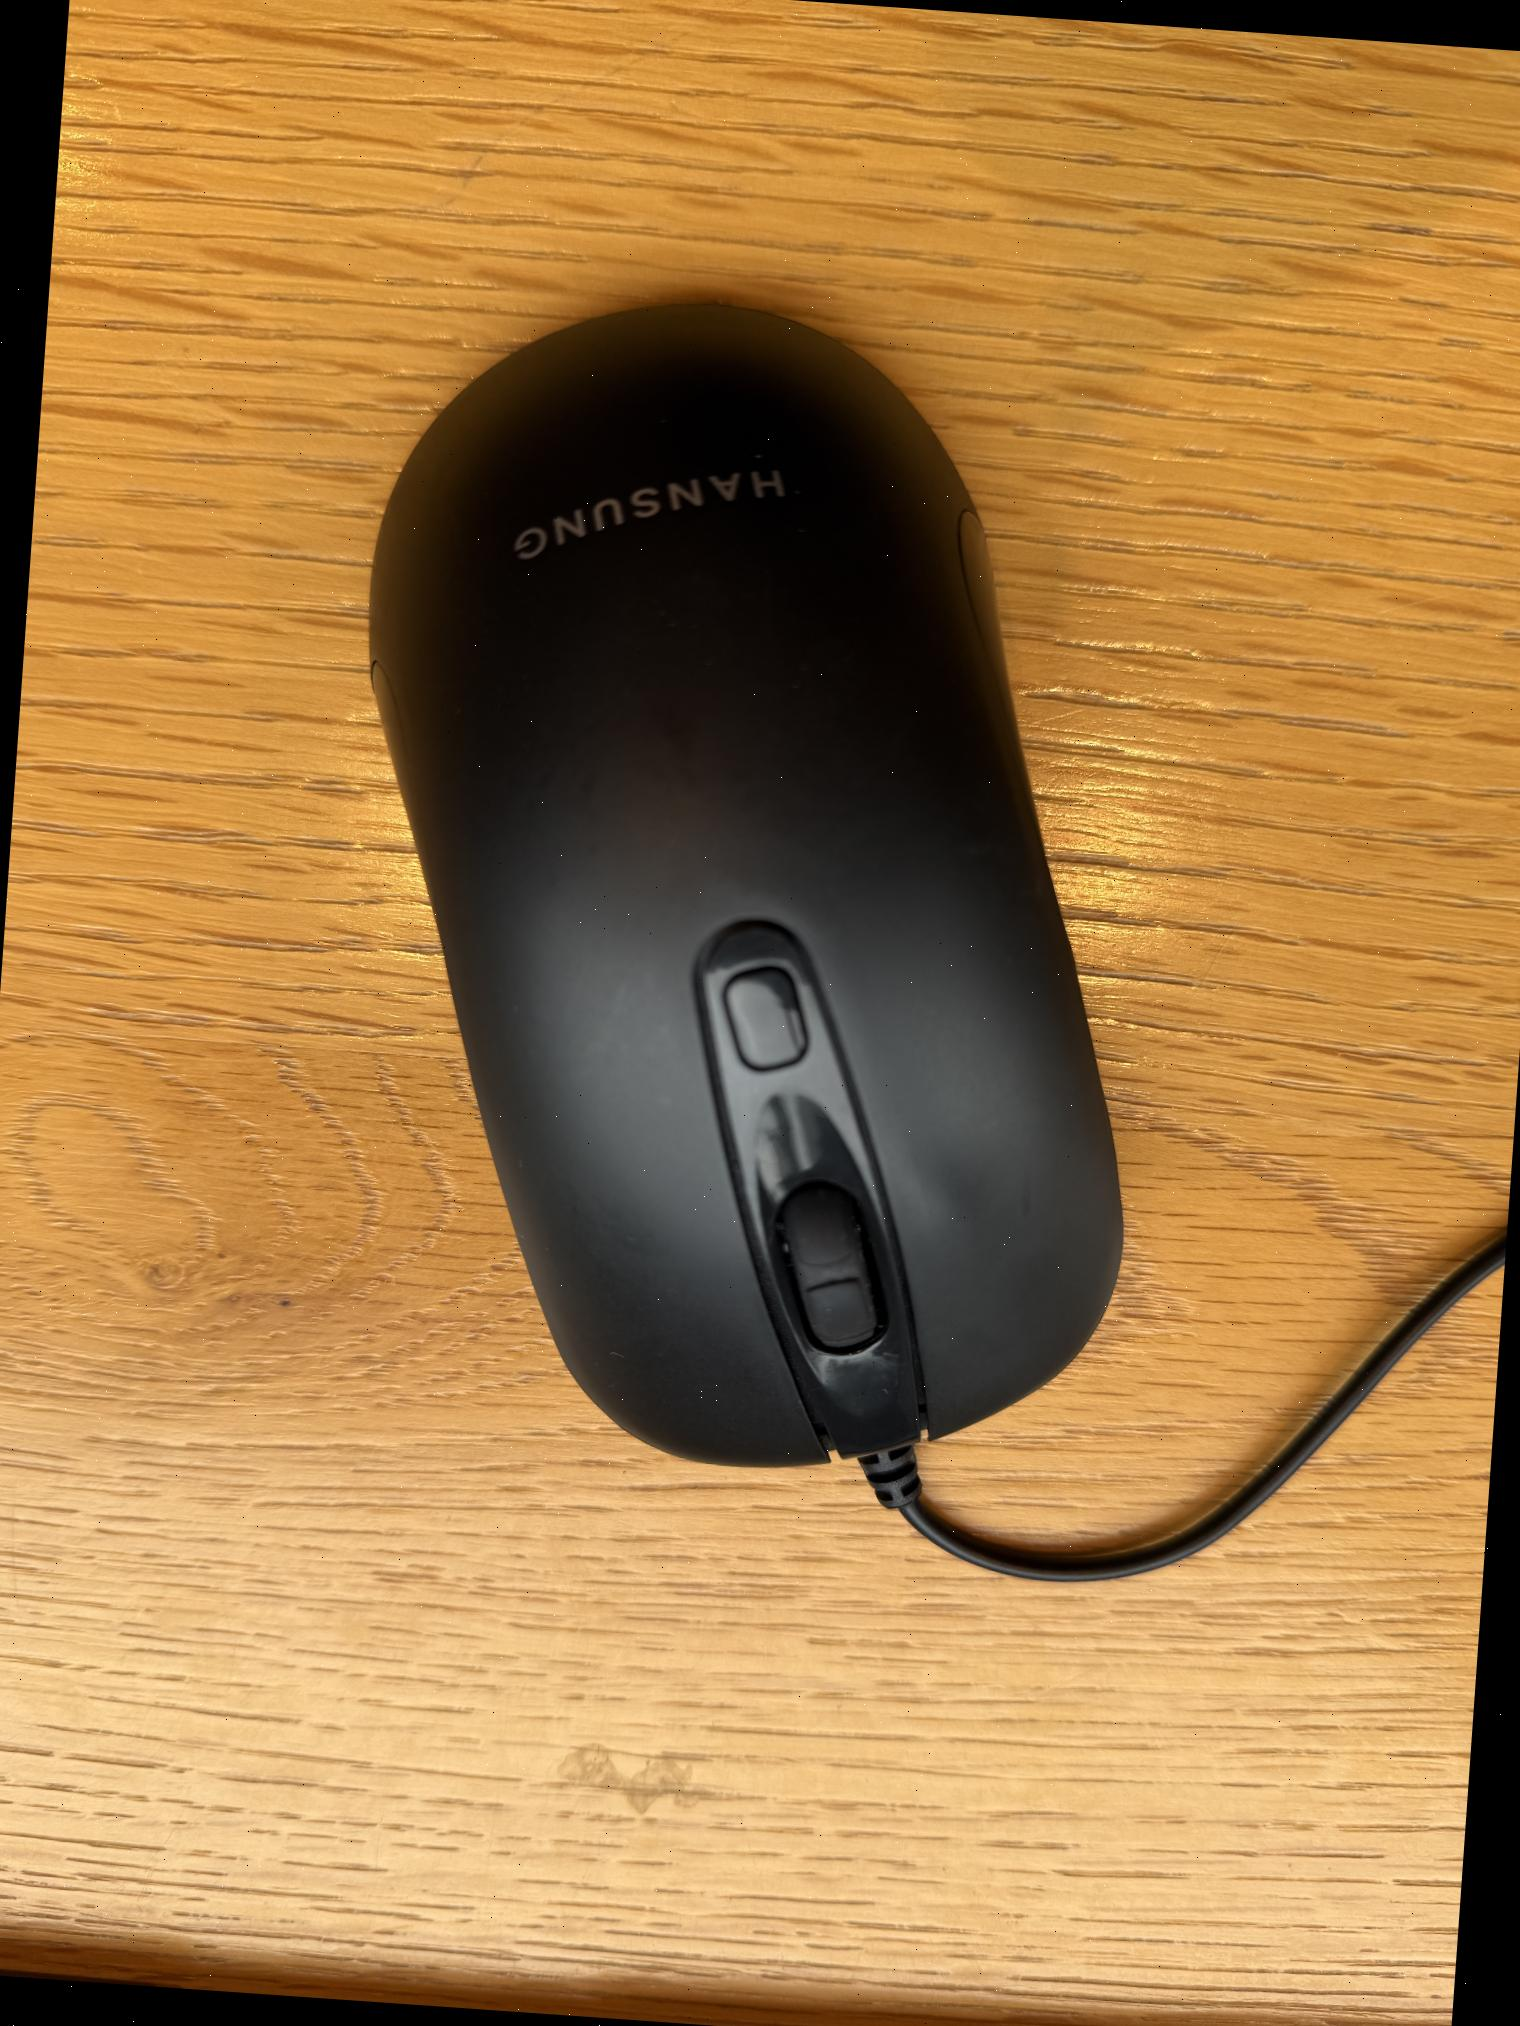front: (297, 278, 1193, 1494)
